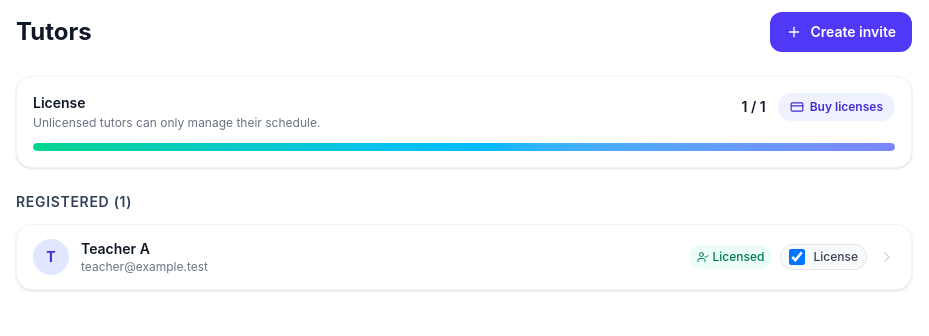
Test: school administrator teacher-pay details › does not open incomplete teacher earnings when the attendance pay source is unavailable
The image size is (929, 336).
Click the button "Teacher A".
click(51, 257)  # box [16,224,912,290]
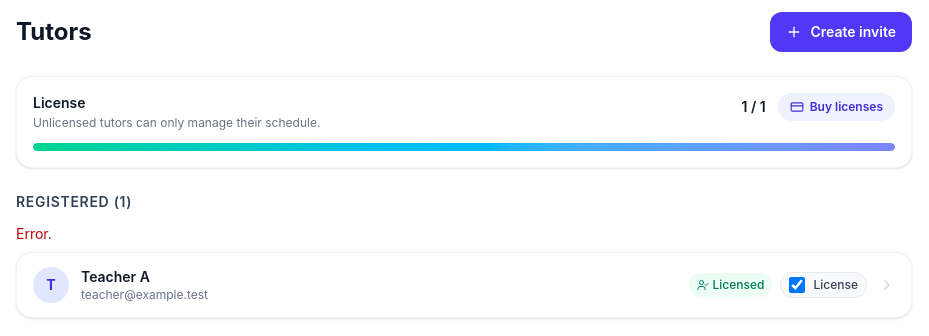
Result: the message "Error." is shown at [16,225,52,242]
